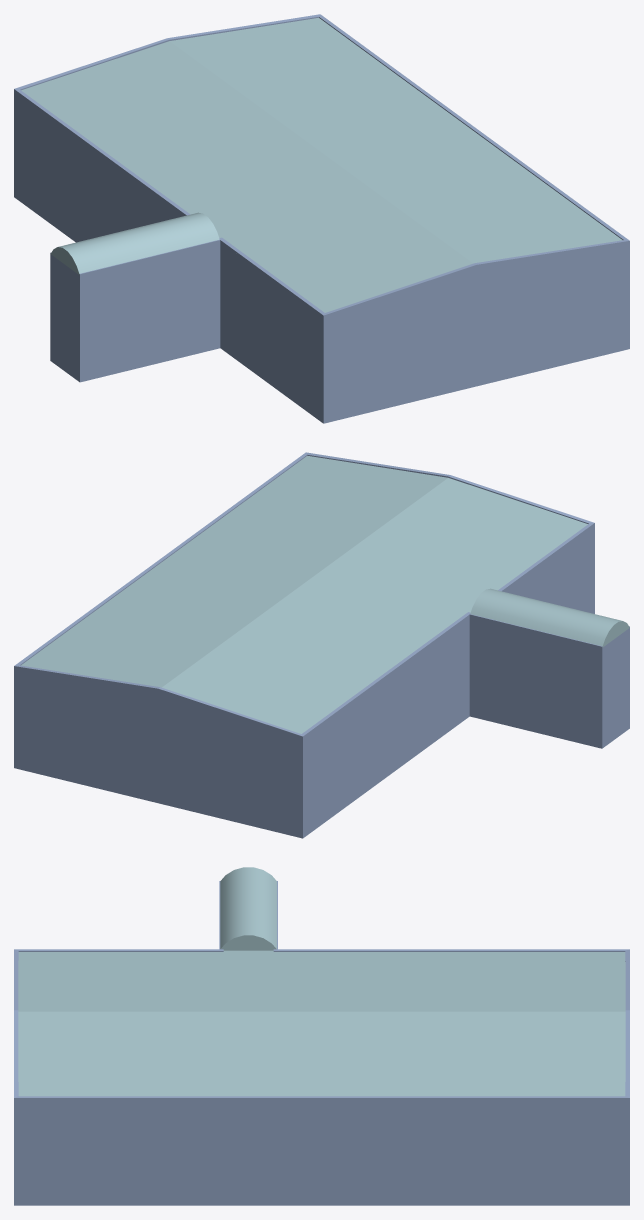
Rendered from plot6.fbx.
3 views of the same model, one above another, from view 1: azimuth 30°, elevation 25°; view 2: azimuth 150°, elevation 25°; view 3: azimuth 270°, elevation 25° (orthographic). The views are drawn at different scales.
Parts seen in each view (by area): view 1: plot6_level-0_floor, plot6_level-1_walls, plot6_level-2_walls; view 2: plot6_level-0_floor, plot6_level-1_walls, plot6_level-2_walls; view 3: plot6_level-0_floor, plot6_level-1_walls, plot6_level-2_walls.
Boxes of the visible parts, x1,y1,x2,y2 form: plot6_level-0_floor: [21, 18, 622, 312]; plot6_level-1_walls: [14, 14, 629, 370]; plot6_level-2_walls: [14, 144, 629, 423]; plot6_level-0_floor: [21, 456, 629, 733]; plot6_level-1_walls: [14, 452, 629, 787]; plot6_level-2_walls: [14, 574, 629, 838]; plot6_level-0_floor: [18, 867, 625, 1096]; plot6_level-1_walls: [14, 881, 629, 1152]; plot6_level-2_walls: [14, 1152, 629, 1205].
Size of the model in its own units: 3500 by 914 by 4200.
